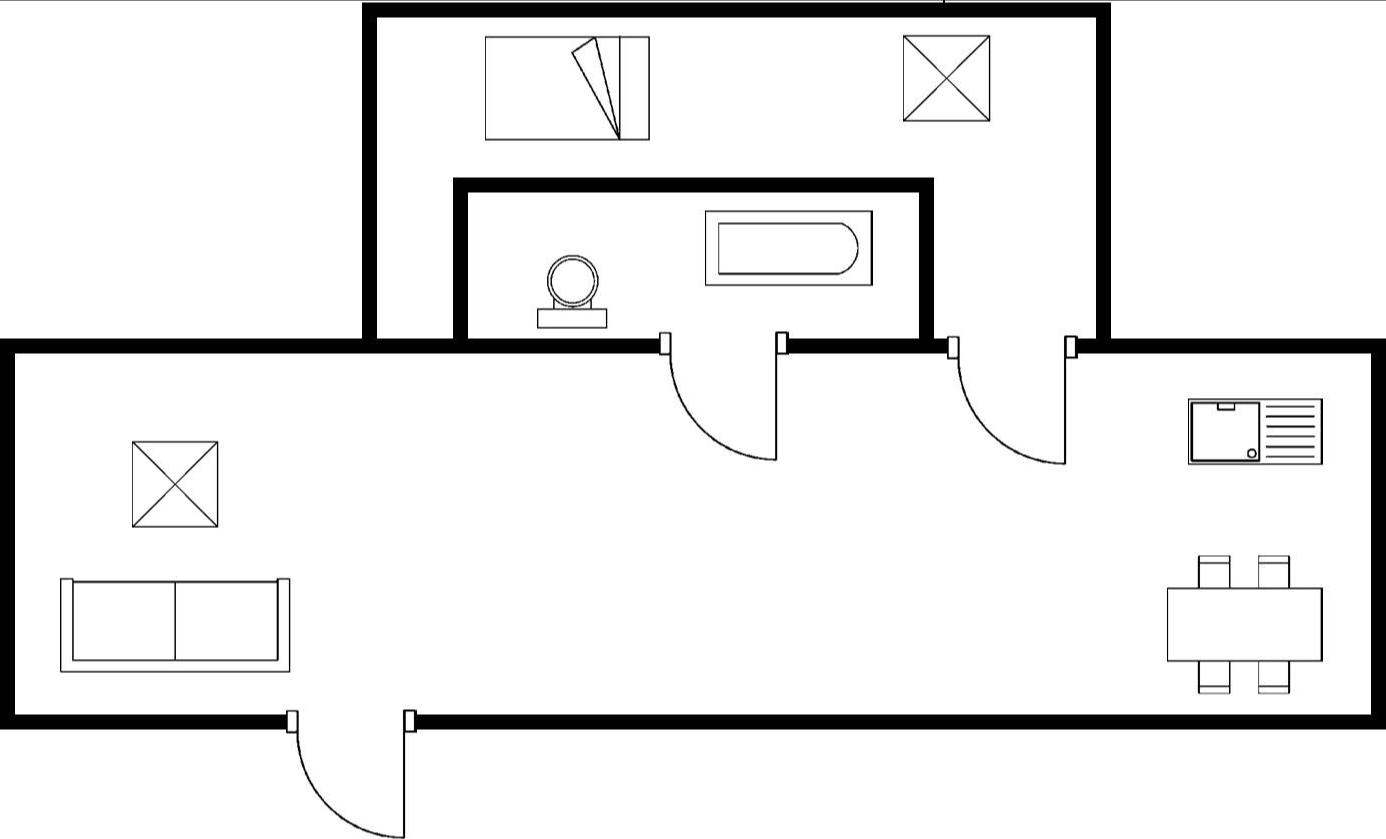bed: (478, 29, 655, 145)
dining_table: (1157, 543, 1331, 699)
sink: (1180, 388, 1331, 471)
sofa: (55, 568, 300, 678)
toilet: (530, 247, 616, 333)
tub: (697, 203, 880, 294)
